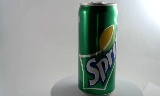sprite: (72, 1, 111, 95)
